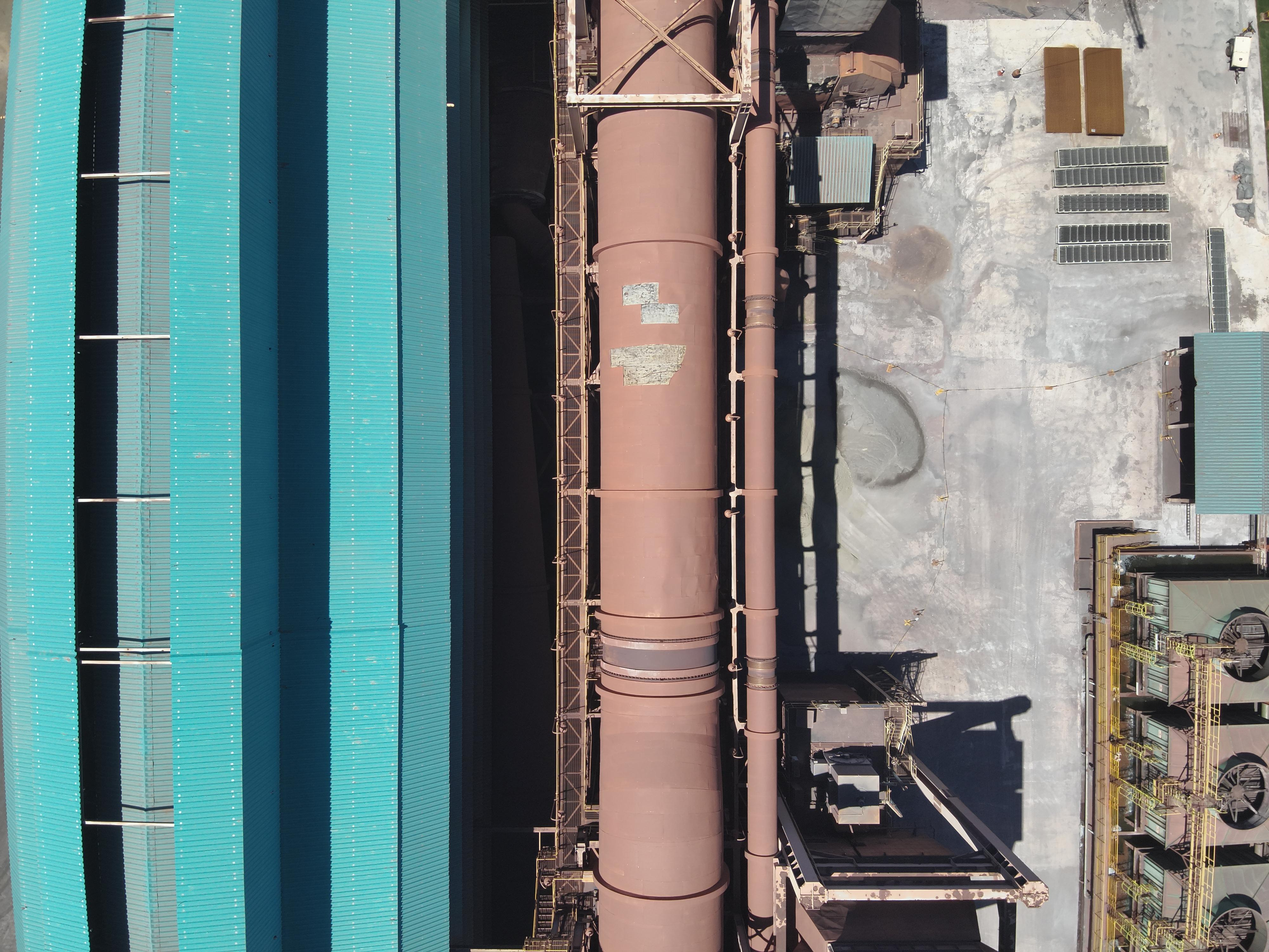Failures: (609, 341, 689, 389), (620, 281, 682, 327), (773, 73, 839, 104)
